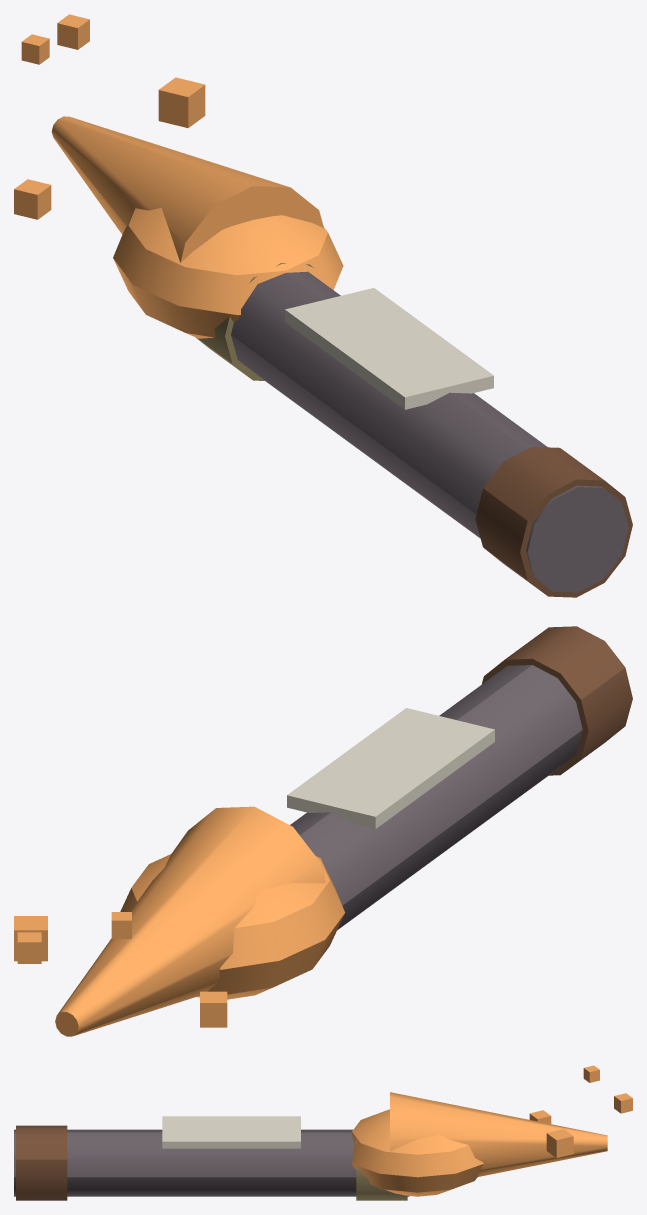
The model's file is Flare_Lit.fbx.
3 views of the same model, one above another, from view 1: azimuth 30°, elevation 25°; view 2: azimuth 150°, elevation 25°; view 3: azimuth 270°, elevation 25° (orthographic). The views are drawn at different scales.
Visible parts, largest first — view 1: Flare_Lit; view 2: Flare_Lit; view 3: Flare_Lit.
Boxes of the visible parts, box(x1,y1,x2,y2) form: Flare_Lit: box(14, 14, 632, 597); Flare_Lit: box(14, 626, 632, 1036); Flare_Lit: box(14, 1065, 632, 1200).
Bounding box in the file's own units: 6.83 × 6.5 × 31.28.
